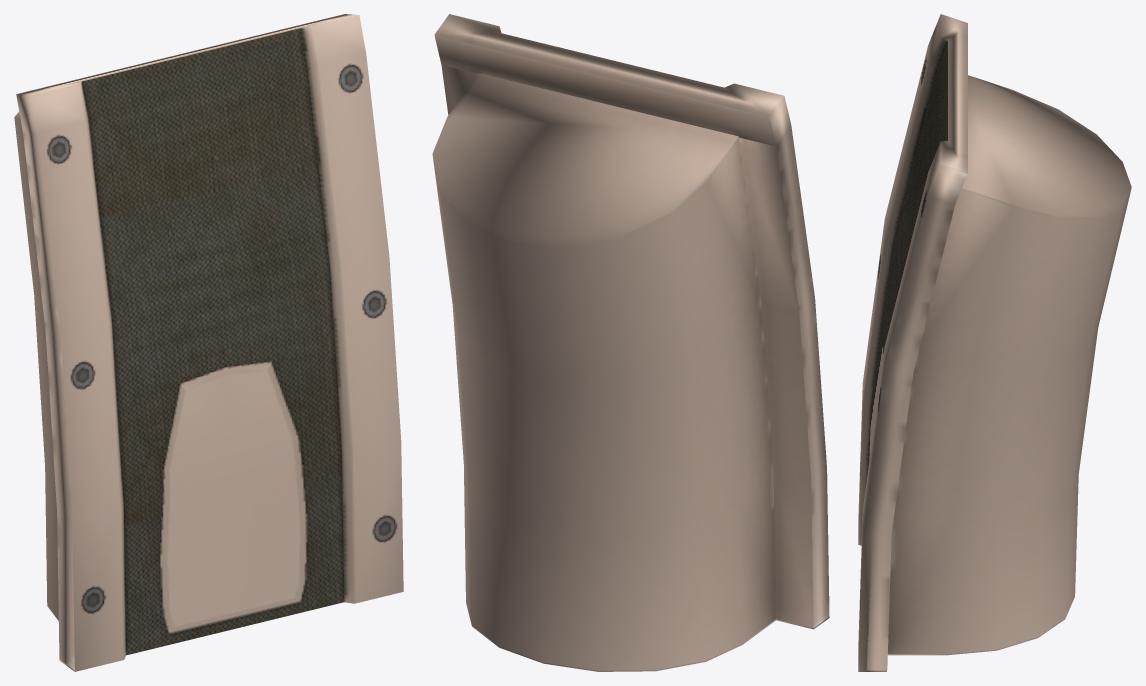
Rendered from lautsprecher.fbx.
The picture shows the model from 3 angles, left to right: view 1: azimuth 30°, elevation 25°; view 2: azimuth 150°, elevation 25°; view 3: azimuth 270°, elevation 25°; orthographic projection. The views are drawn at different scales.
Visible parts, largest first — view 1: lautsprecher_01, lautsprecher_02; view 2: lautsprecher_02, lautsprecher_01; view 3: lautsprecher_02, lautsprecher_01.
Boxes of the visible parts, box(x1,y1,x2,y2) form: lautsprecher_01: box(14, 14, 403, 671); lautsprecher_02: box(14, 95, 74, 670); lautsprecher_02: box(432, 36, 829, 670); lautsprecher_01: box(432, 14, 829, 671); lautsprecher_02: box(866, 167, 1131, 670); lautsprecher_01: box(858, 14, 1131, 671).
Size of the model in its own units: 13.92 by 22.04 by 10.75.
